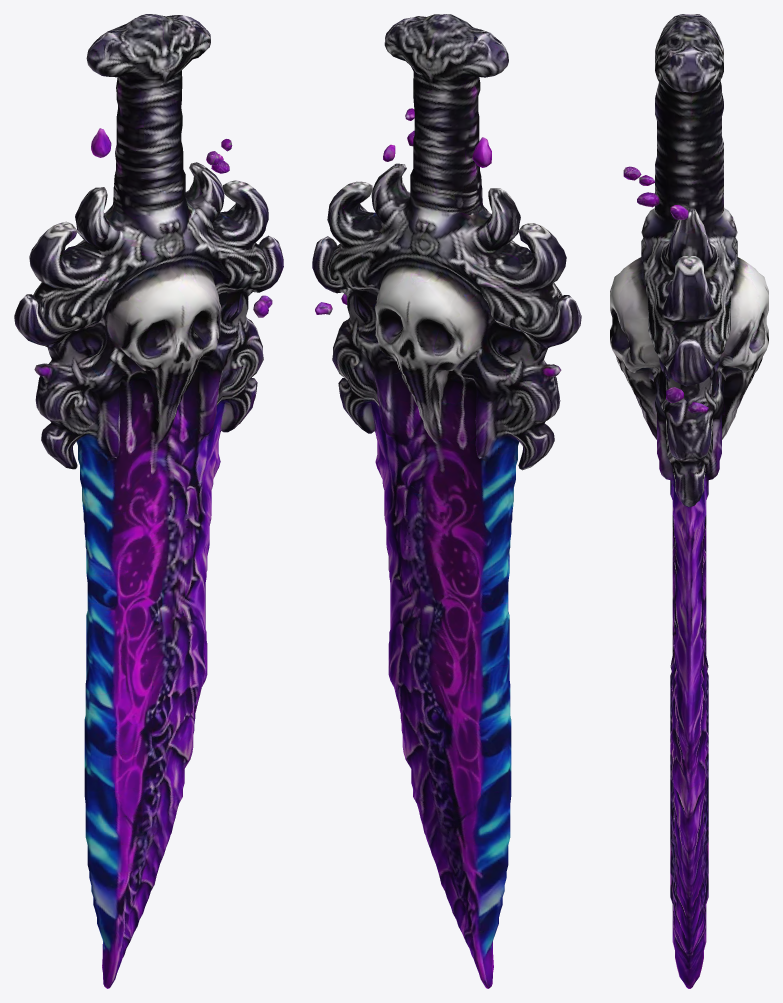
The model's file is my_skullblade.glb.
3 renders of one model, left to right at view 1: azimuth 30°, elevation 25°; view 2: azimuth 150°, elevation 25°; view 3: azimuth 270°, elevation 25°, orthographic. The views are drawn at different scales.
Size of the model in its own units: 0.5441 by 1.91 by 0.2778.
Materials: 1 (1 with a texture image).
